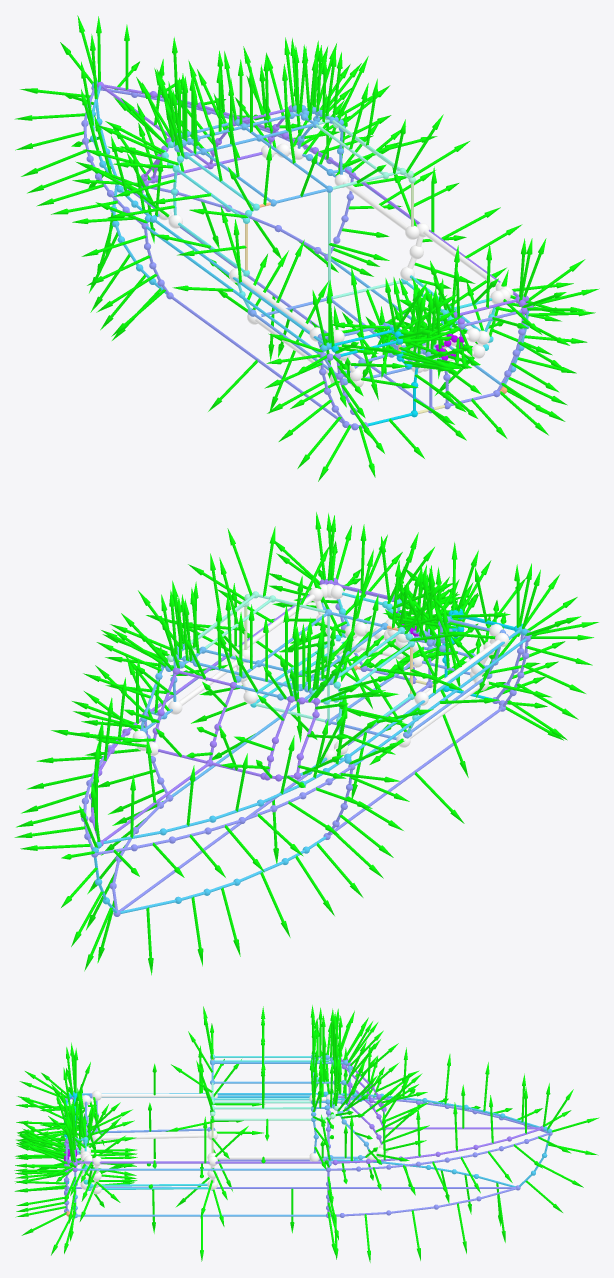
The model's file is flowrep_boat.gltf.
3 renders of one model, top to bottom at view 1: azimuth 30°, elevation 25°; view 2: azimuth 150°, elevation 25°; view 3: azimuth 270°, elevation 25°, orthographic. The views are drawn at different scales.
Size of the model in its own units: 0.5223 by 0.4205 by 1.11.
